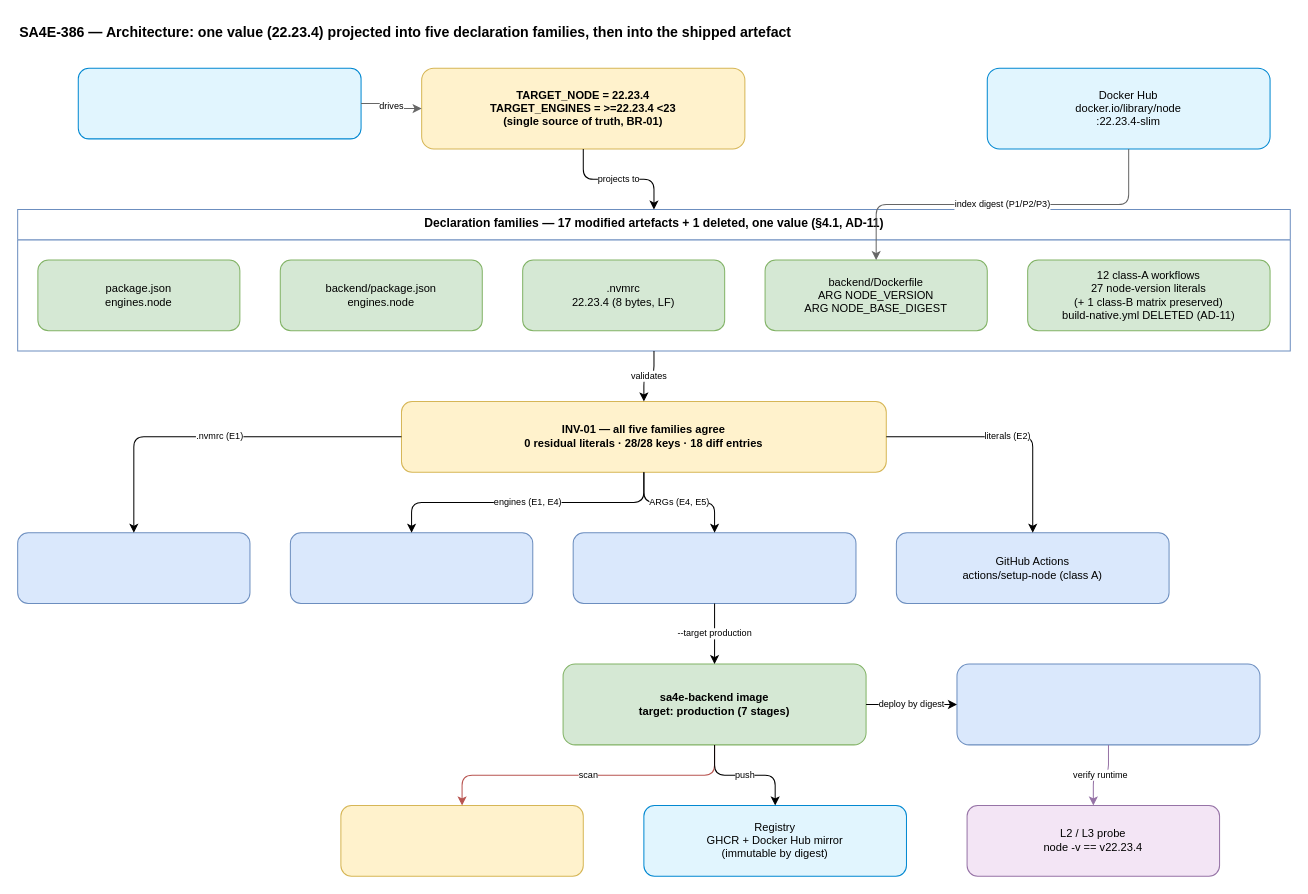
This 1308x894 diagram has some shape labels left out. Here are the shapes that lost their labels. From the top down, the box of each, then its label:
(77, 67, 361, 139): Advisory (nodejs.org) CVE-2026-111497 — Brotli RCE + 3 related Highs
(17, 532, 250, 603): nvm / fnm developer shell runtime
(289, 532, 533, 603): npm ci local install + in-image install
(572, 532, 856, 603): docker build FROM node:${NODE_VERSION}-slim@${DIGEST}
(956, 663, 1260, 745): Running backend port 48721 · GET /health
(340, 804, 583, 876): Trivy AD-8 M1 ∧ M2 ∧ M3
